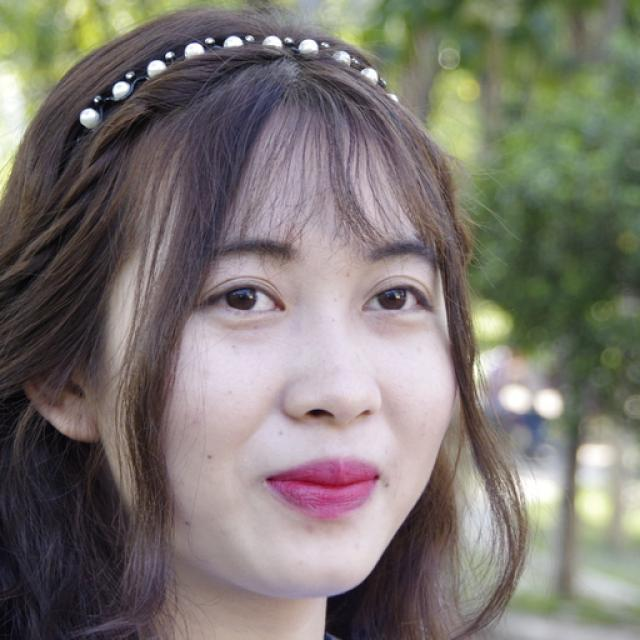neutral: (111, 116, 459, 595)
